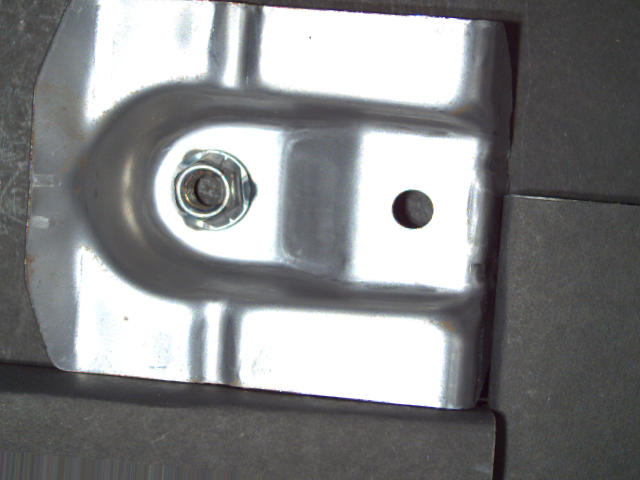good: (168, 146, 259, 240)
